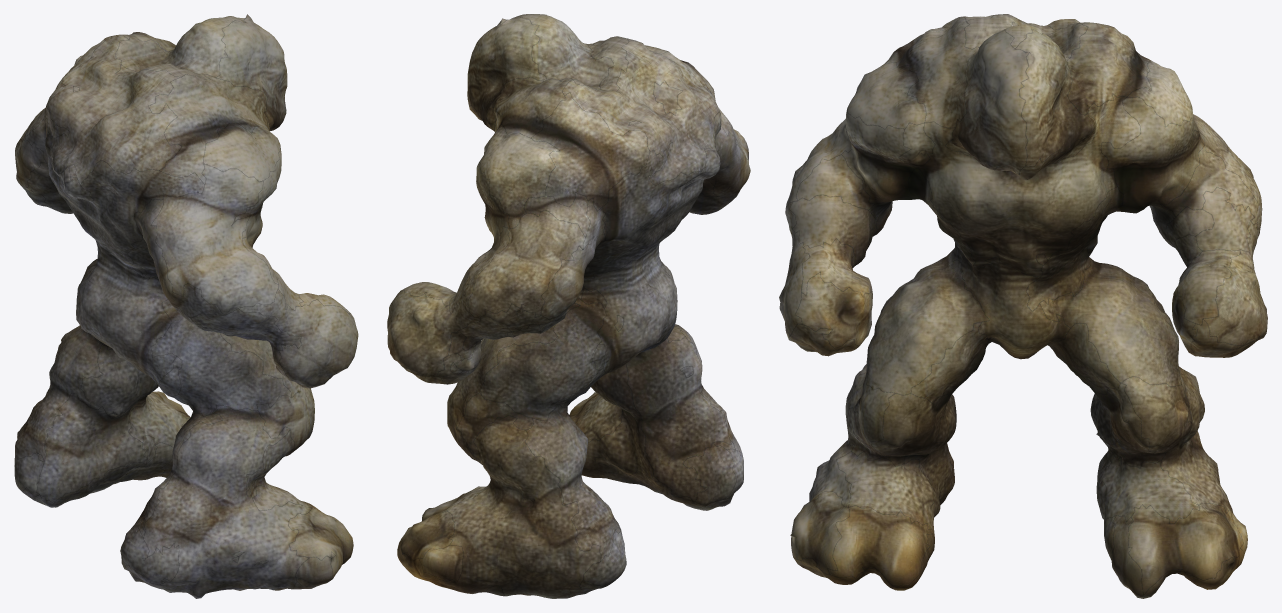
File: golum.glb
3 renders of one model, left to right at view 1: azimuth 30°, elevation 25°; view 2: azimuth 150°, elevation 25°; view 3: azimuth 270°, elevation 25°, orthographic. The views are drawn at different scales.
Parts seen in each view (by area): view 1: Mesh1; view 2: Mesh1; view 3: Mesh1.
Part boxes in pixels (x1=…): Mesh1: x1=14, y1=14, x2=358, y2=598; Mesh1: x1=387, y1=14, x2=750, y2=598; Mesh1: x1=779, y1=14, x2=1267, y2=598.
Size of the model in its own units: 0.5775 by 1.2 by 0.9655.
Materials: 1 (1 with a texture image).
